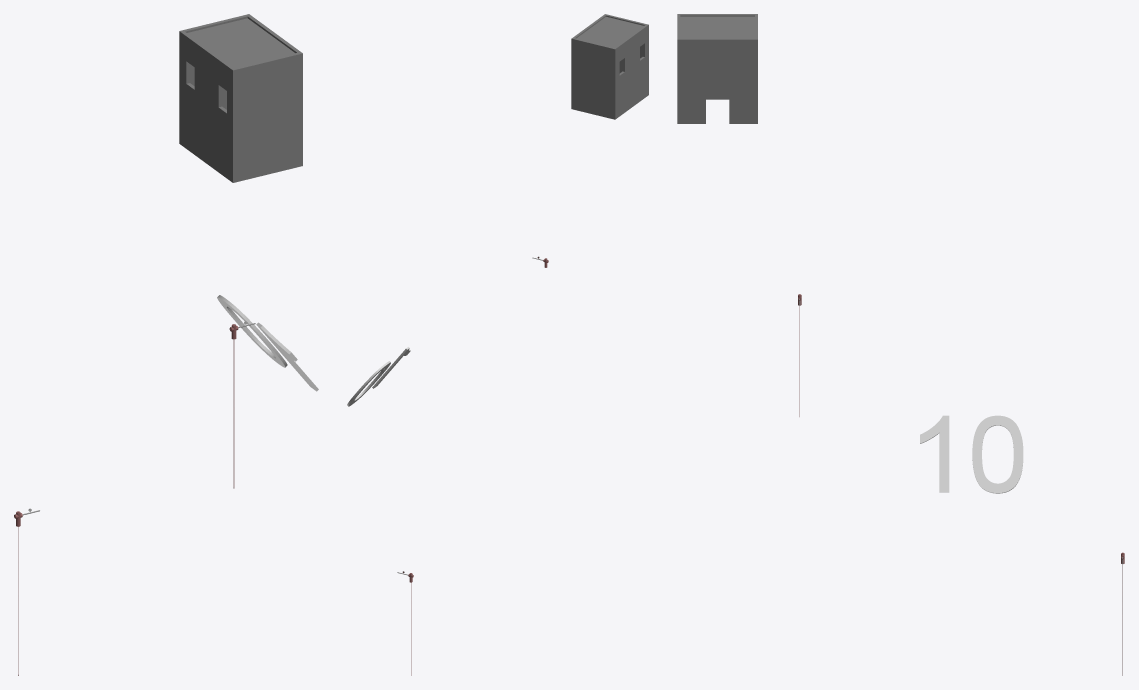
The picture shows the model from 3 angles, left to right: view 1: azimuth 30°, elevation 25°; view 2: azimuth 150°, elevation 25°; view 3: azimuth 270°, elevation 25°; orthographic projection. The views are drawn at different scales.
Bounding box in the file's own units: 14.59 × 44.93 × 28.83.
